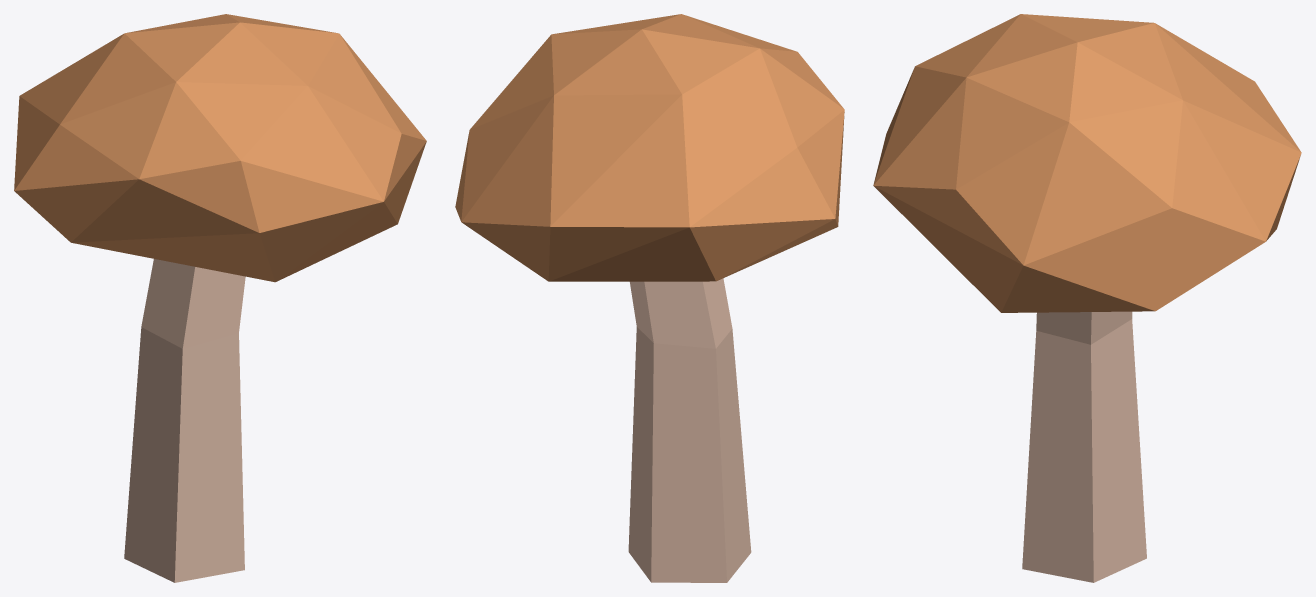
Rendered from Mushroom_f_01.fbx.
The picture shows the model from 3 angles, left to right: view 1: azimuth 30°, elevation 25°; view 2: azimuth 150°, elevation 25°; view 3: azimuth 270°, elevation 25°; orthographic projection. The views are drawn at different scales.
Visible parts, largest first — view 1: Mushroom_f_01; view 2: Mushroom_f_01; view 3: Mushroom_f_01.
Boxes of the visible parts, <box> form: Mushroom_f_01: <box>14,14,426,582</box>; Mushroom_f_01: <box>455,14,844,582</box>; Mushroom_f_01: <box>873,14,1301,582</box>.
Bounding box in the file's own units: 0.2432 × 0.3273 × 0.2362.
